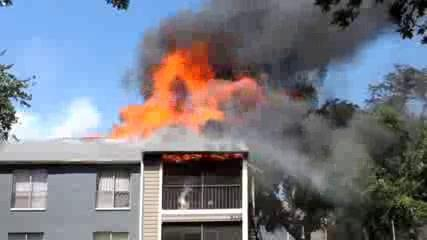fire: (110, 48, 253, 153)
